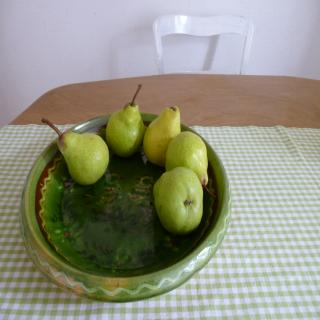Pear: (152, 167, 203, 235), (57, 129, 109, 186), (164, 131, 208, 185), (143, 106, 180, 169), (107, 99, 146, 158)
